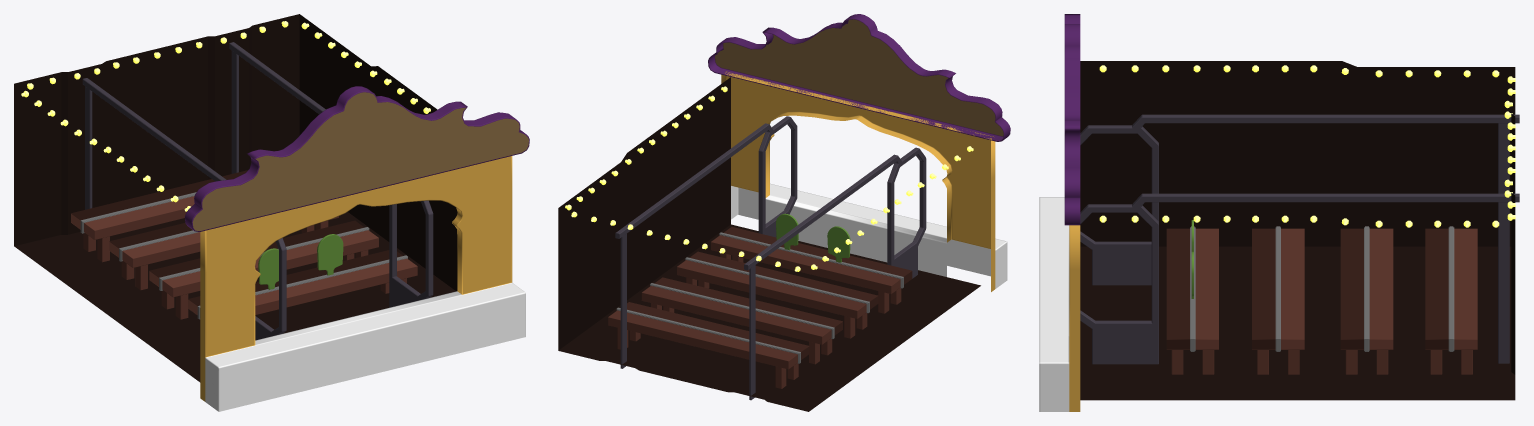
File: NEW_gallery.fbx
3 views of the same model, side by side, from view 1: azimuth 30°, elevation 25°; view 2: azimuth 150°, elevation 25°; view 3: azimuth 270°, elevation 25° (orthographic). The views are drawn at different scales.
Visible parts, largest first — view 1: Gallery, Gallery Lights, Target 02, Target 01; view 2: Gallery, Gallery Lights, Target 01, Target 02; view 3: Gallery, Gallery Lights.
Boxes of the visible parts, bbox=[...] form: Gallery: bbox=[14, 14, 529, 411]; Gallery Lights: bbox=[21, 21, 430, 211]; Target 02: bbox=[317, 234, 343, 275]; Target 01: bbox=[258, 248, 278, 289]; Gallery: bbox=[558, 14, 1010, 411]; Gallery Lights: bbox=[565, 86, 973, 271]; Target 01: bbox=[827, 226, 850, 262]; Target 02: bbox=[776, 213, 798, 250]; Gallery: bbox=[1039, 14, 1519, 411]; Gallery Lights: bbox=[1099, 65, 1515, 227].
Size of the model in its own units: 553 by 429 by 617.
